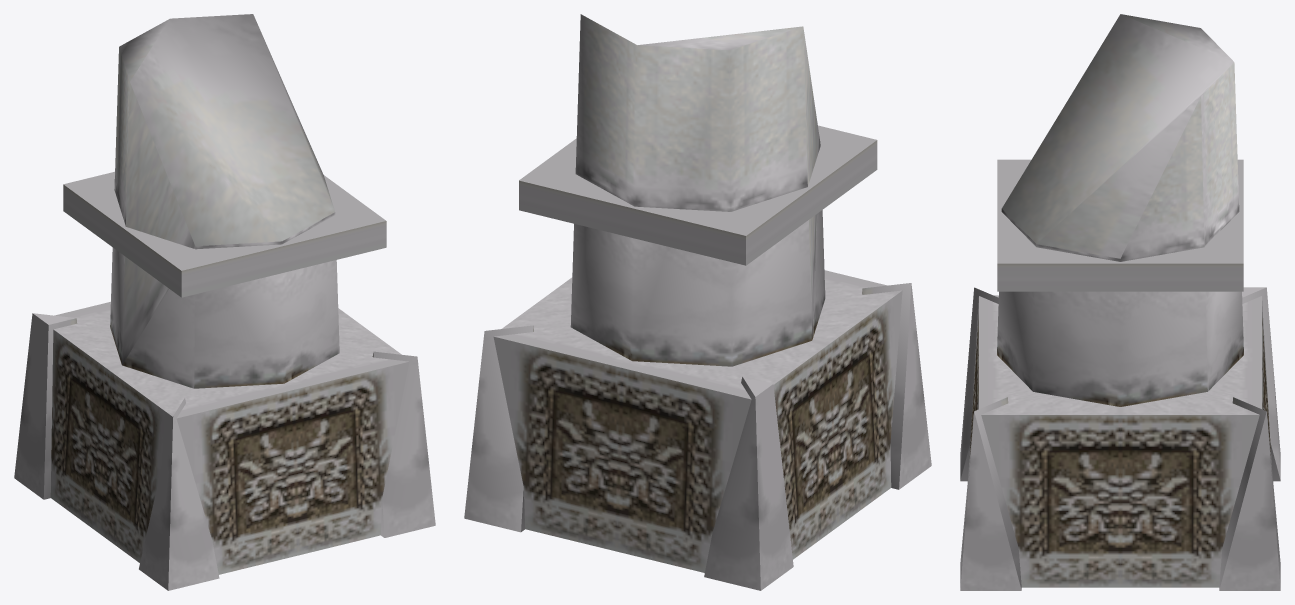
Rendered from general_obj_bigtower06_lod_01.glb.
3 views of the same model, side by side, from view 1: azimuth 30°, elevation 25°; view 2: azimuth 150°, elevation 25°; view 3: azimuth 270°, elevation 25° (orthographic). The views are drawn at different scales.
Visible parts, largest first — view 1: Sphere01; view 2: Sphere01; view 3: Sphere01.
Part boxes in pixels (x1,y1,x2,y2): Sphere01: (14, 14, 435, 590); Sphere01: (464, 14, 931, 590); Sphere01: (960, 14, 1280, 590).
Bounding box in the file's own units: 5.22 × 8.27 × 5.21.
Materials: 1 (1 with a texture image).
